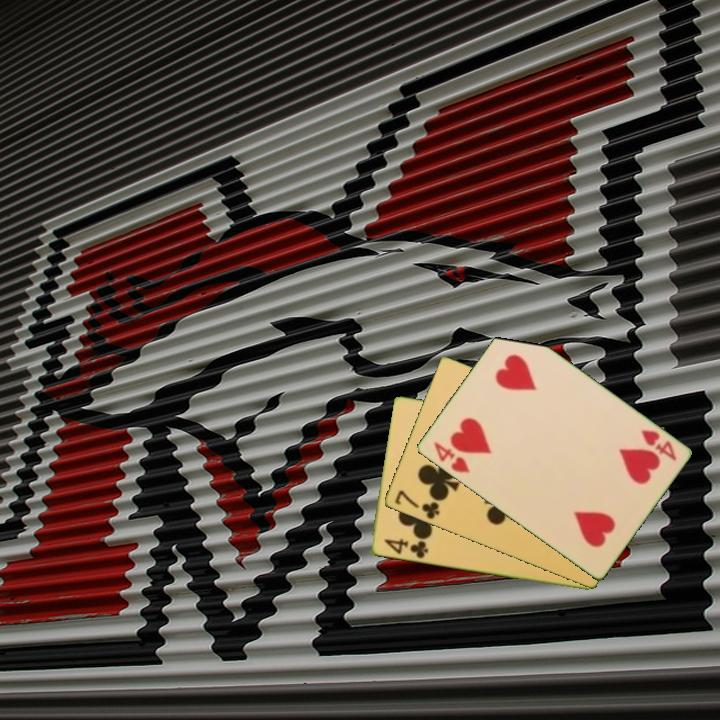4c: (380, 535, 430, 561)
4h: (429, 438, 472, 476), (637, 426, 679, 464)
7c: (391, 487, 443, 522)
